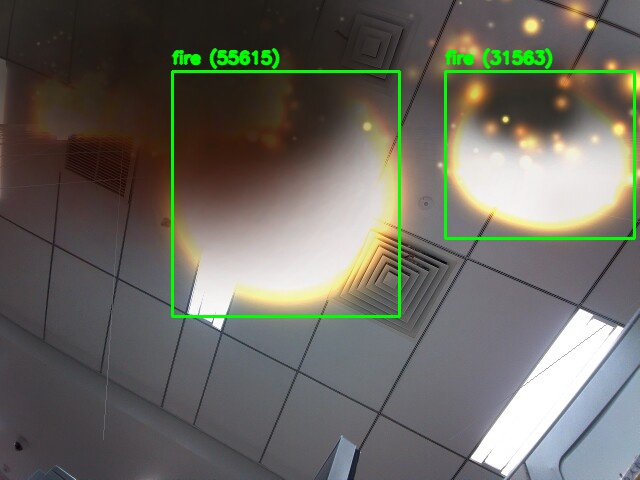fire: (172, 71, 399, 316), (445, 71, 634, 238)
